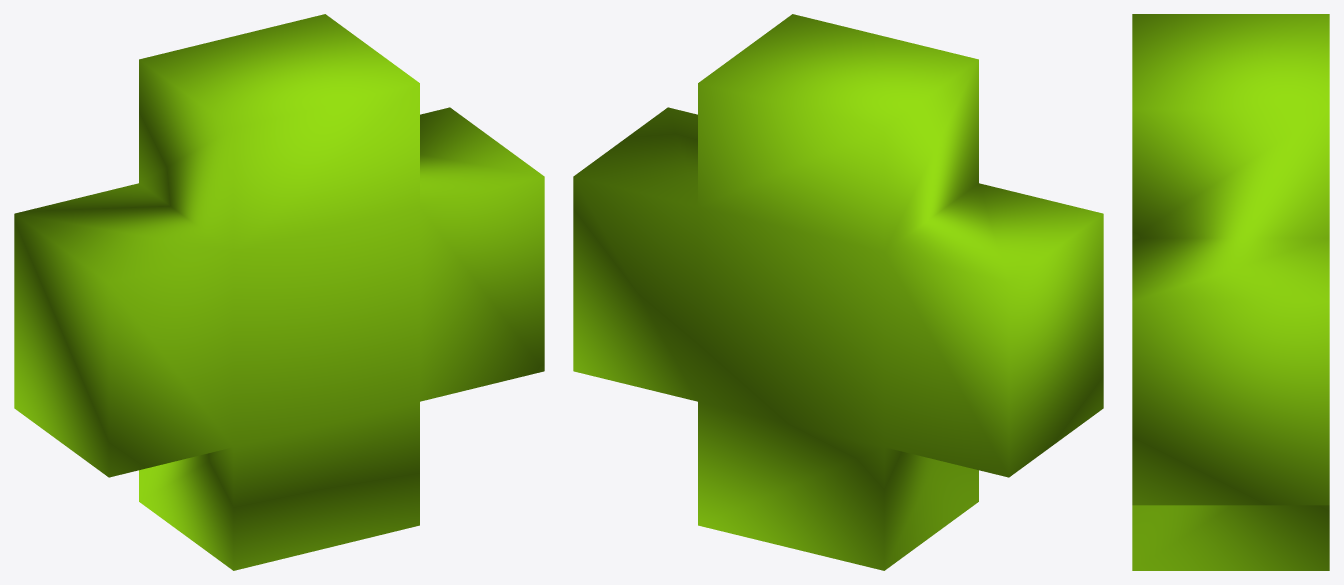
The model's file is FXMesh_HealCross.fbx.
3 views of the same model, side by side, from view 1: azimuth 30°, elevation 25°; view 2: azimuth 150°, elevation 25°; view 3: azimuth 270°, elevation 25° (orthographic). The views are drawn at different scales.
Parts seen in each view (by area): view 1: FXMesh_HealCross; view 2: FXMesh_HealCross; view 3: FXMesh_HealCross.
Part boxes in pixels (bbox=[...]): FXMesh_HealCross: bbox=[14, 14, 544, 570]; FXMesh_HealCross: bbox=[573, 14, 1103, 570]; FXMesh_HealCross: bbox=[1132, 14, 1329, 570].
Bounding box in the file's own units: 61.32 × 59.52 × 23.03.
